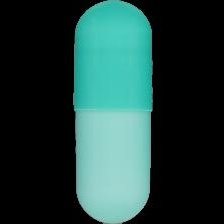52959-049: (0, 0, 224, 224)
